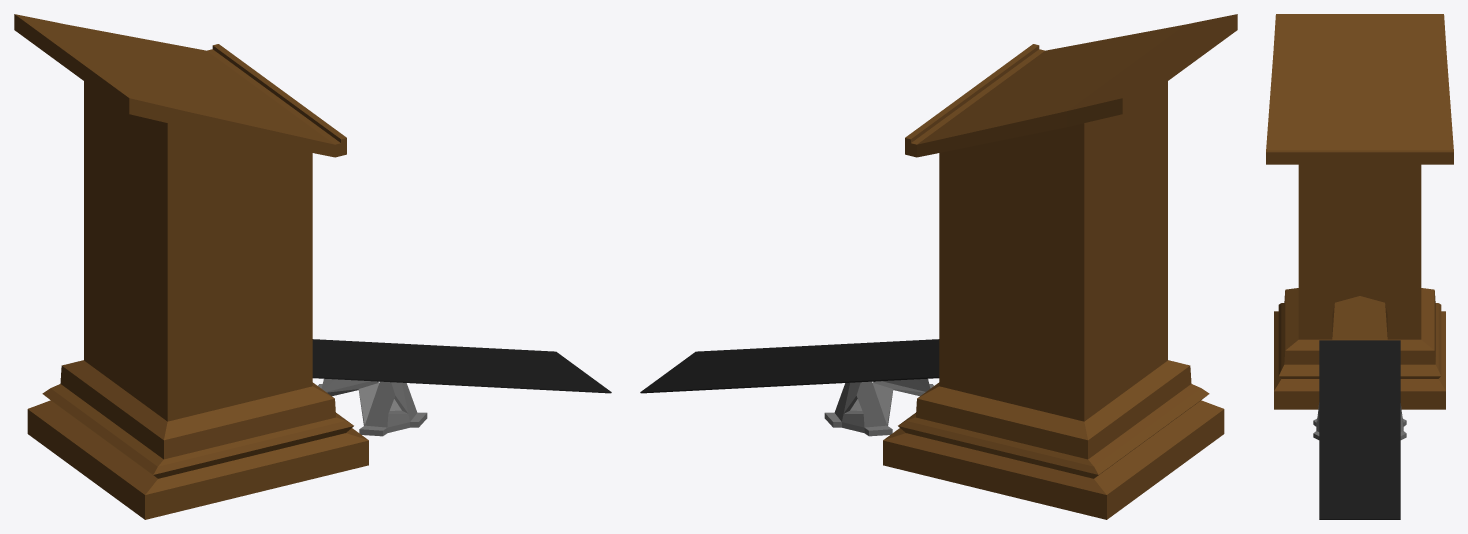
The model's file is Pupitre.gltf.
The picture shows the model from 3 angles, left to right: view 1: azimuth 30°, elevation 25°; view 2: azimuth 150°, elevation 25°; view 3: azimuth 270°, elevation 25°; orthographic projection. The views are drawn at different scales.
Parts seen in each view (by area): view 1: Cube, Cube.001, Cube.002; view 2: Cube, Cube.001, Cube.002; view 3: Cube, Cube.001, Cube.002.
Part boxes in pixels (bbox=[...]): Cube: bbox=[14, 14, 368, 519]; Cube.001: bbox=[312, 339, 611, 393]; Cube.002: bbox=[318, 378, 427, 436]; Cube: bbox=[883, 14, 1237, 519]; Cube.001: bbox=[640, 339, 939, 393]; Cube.002: bbox=[824, 378, 933, 436]; Cube: bbox=[1266, 14, 1453, 409]; Cube.001: bbox=[1319, 340, 1400, 519]; Cube.002: bbox=[1313, 403, 1406, 439].
Size of the model in its own units: 7.06 by 5.82 by 3.07.
